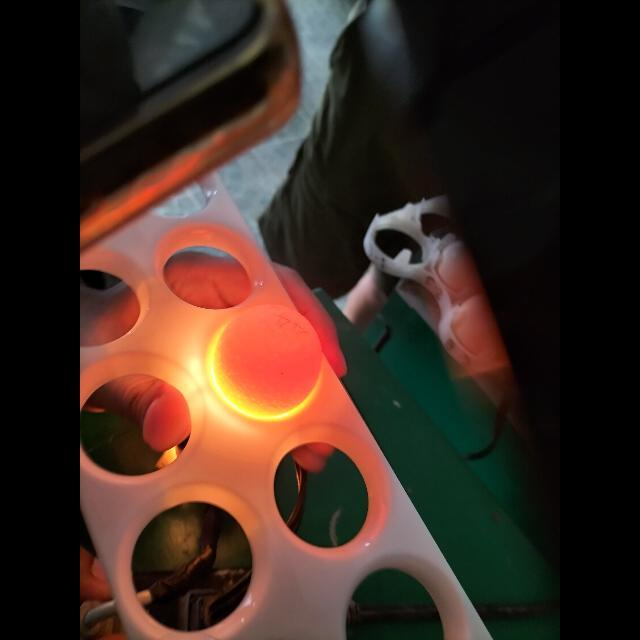Infertile: (208, 309, 326, 427)
